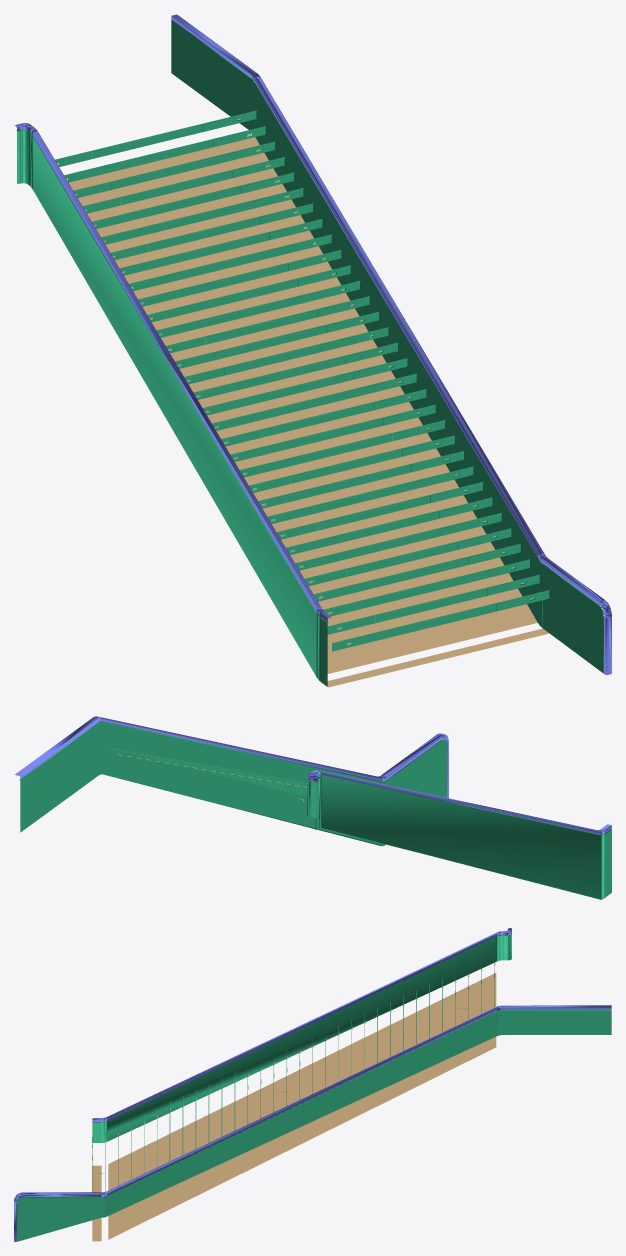
File: deluxe_stairs_straight_16x06x08_a.glb
The picture shows the model from 3 angles, top to bottom: view 1: azimuth 30°, elevation 25°; view 2: azimuth 150°, elevation 25°; view 3: azimuth 270°, elevation 25°; orthographic projection. The views are drawn at different scales.
Size of the model in its own units: 7.22 by 9.97 by 23.04.
